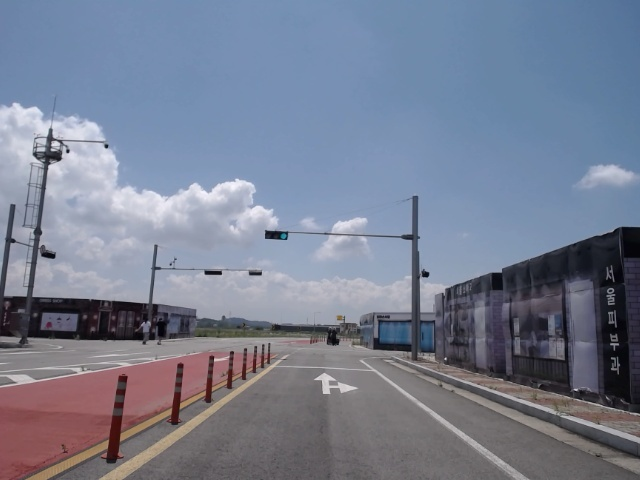green_3: (266, 231, 288, 240)
